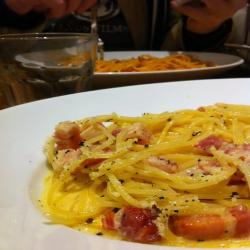bolonese_pasta: (61, 48, 221, 73)
carbonara: (37, 96, 249, 245)
